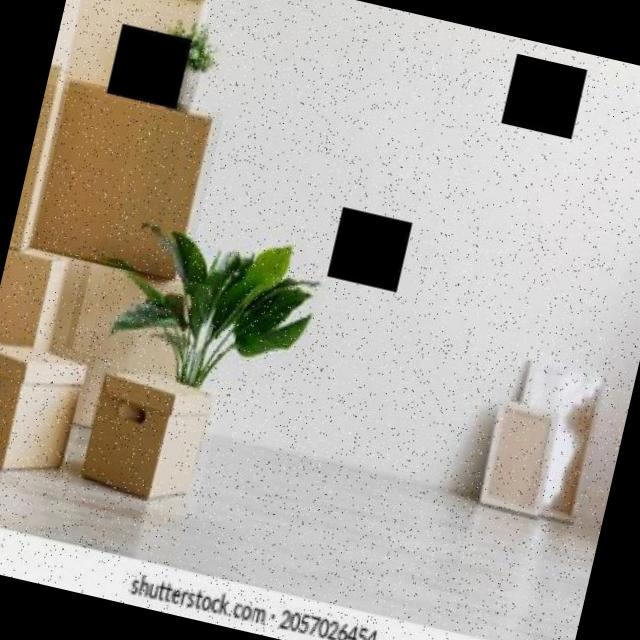box: (31, 78, 224, 283), (56, 258, 214, 448), (76, 365, 222, 518), (46, 0, 217, 115), (0, 330, 95, 491), (0, 240, 85, 354)
